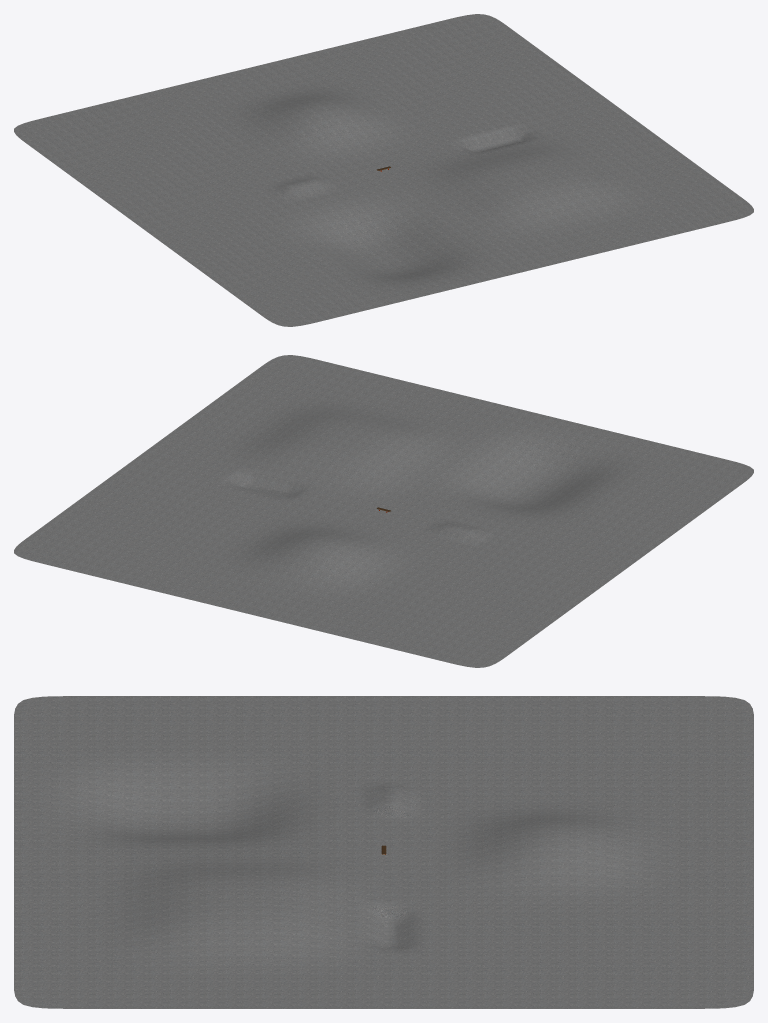
The model's file is nyc_runner.glb.
3 renders of one model, top to bottom at view 1: azimuth 30°, elevation 25°; view 2: azimuth 150°, elevation 25°; view 3: azimuth 270°, elevation 25°, orthographic. The views are drawn at different scales.
Parts seen in each view (by area): view 1: Plane; view 2: Plane; view 3: Plane.
Part boxes in pixels (left/top/right/bottom): Plane: left=14, top=14, right=753, bottom=326; Plane: left=14, top=355, right=753, bottom=667; Plane: left=14, top=696, right=753, bottom=1008.
Bounding box in the file's own units: 30 × 1.7 × 30.
4 materials, 1 textured.
